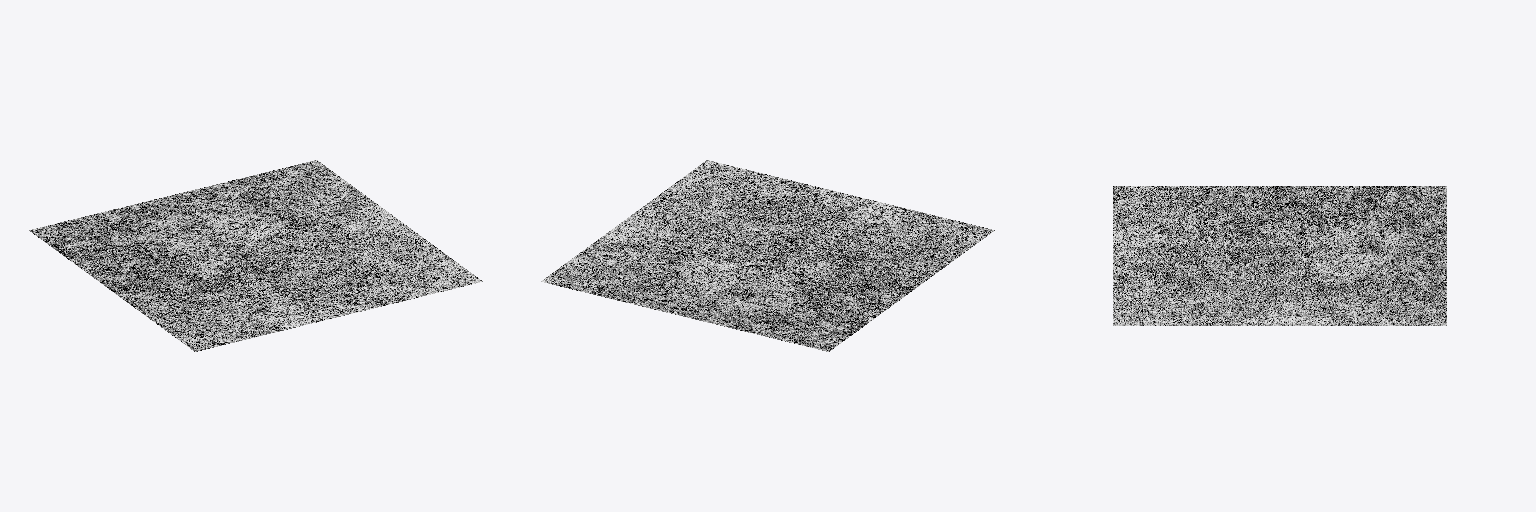
3 renders of one model, left to right at view 1: azimuth 30°, elevation 25°; view 2: azimuth 150°, elevation 25°; view 3: azimuth 270°, elevation 25°, orthographic.
Visible parts, largest first — view 1: stone_Plane.008; view 2: stone_Plane.008; view 3: stone_Plane.008.
Boxes of the visible parts, x1,y1,x2,y2 form: stone_Plane.008: [29, 160, 482, 351]; stone_Plane.008: [541, 160, 994, 351]; stone_Plane.008: [1113, 186, 1446, 325].
Bounding box in the file's own units: 2 × 0 × 2.
Materials: 1 (1 with a texture image).